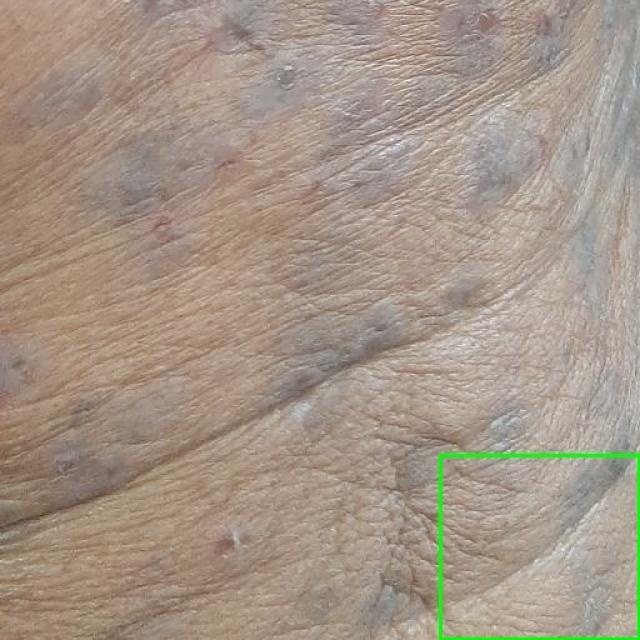Contact Dermatitis: (440, 455, 639, 639)
